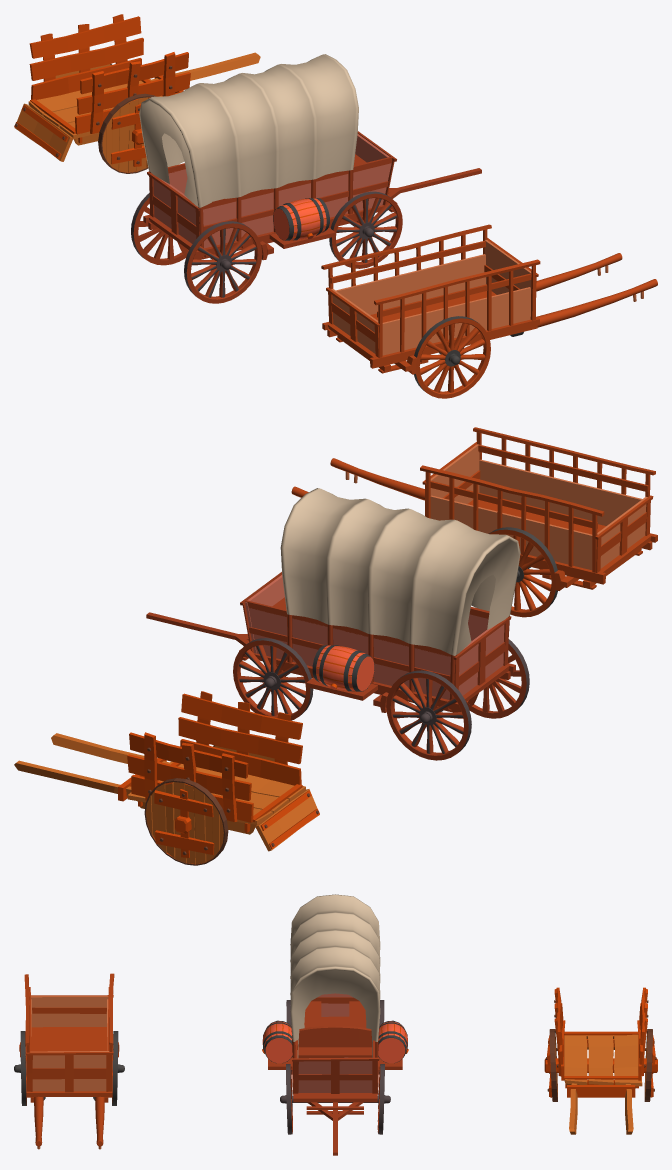
Rendered from low_poly_medieval_pack_wagons.glb.
3 renders of one model, top to bottom at view 1: azimuth 30°, elevation 25°; view 2: azimuth 150°, elevation 25°; view 3: azimuth 270°, elevation 25°, orthographic. The views are drawn at different scales.
Parts seen in each view (by area): view 1: Cube.005_Cube.002, Cube.060, Cube.007_Cube.009, Cube.007_Cube.002, Cube.009_Cube.001, Cube.005_Cube.007, Cylinder.001, Cube.008_Cube.002, Cube.059, Cube.008_Cube.014, Cube.061, Cylinder.067 (+17 smaller); view 2: Cube.005_Cube.002, Cube.060, Cube.007_Cube.009, Cube.007_Cube.002, Cylinder.005, Cube.009_Cube.001, Cube.005_Cube.007, Cylinder.001, Cube.008_Cube.002, Cube.059, Cube.061, Cube.008_Cube.014 (+16 smaller); view 3: Cube.005_Cube.002, Cube.059, Cube.011_Cube.013, Cube.011_Cube.002, Cube.008_Cube.014, Cube_Cube.001, Cube.052, Cylinder.017, Cube_Cube.003, Cube.060, Cylinder.005, Cylinder.067 (+8 smaller).
Boxes of the visible parts, left/top/right/bottom form: Cube.005_Cube.002: left=139, top=54, right=358, bottom=247; Cube.060: left=29, top=16, right=190, bottom=134; Cube.007_Cube.009: left=336, top=254, right=530, bottom=355; Cube.007_Cube.002: left=168, top=163, right=391, bottom=248; Cube.009_Cube.001: left=138, top=207, right=256, bottom=297; Cube.005_Cube.007: left=328, top=229, right=535, bottom=357; Cylinder.001: left=131, top=193, right=262, bottom=303; Cube.008_Cube.002: left=147, top=171, right=201, bottom=248; Cube.059: left=14, top=78, right=162, bottom=161; Cube.008_Cube.014: left=326, top=287, right=380, bottom=357; Cube.061: left=40, top=14, right=175, bottom=133; Cylinder.067: left=463, top=253, right=657, bottom=348; Cube.005_Cube.002: left=280, top=488, right=520, bottom=699; Cube.060: left=127, top=693, right=302, bottom=822; Cube.007_Cube.009: left=430, top=459, right=642, bottom=570; Cube.007_Cube.002: left=248, top=608, right=488, bottom=699; Cylinder.005: left=144, top=745, right=274, bottom=865; Cube.009_Cube.001: left=392, top=655, right=521, bottom=753; Cube.005_Cube.007: left=425, top=430, right=650, bottom=572; Cylinder.001: left=386, top=639, right=529, bottom=760; Cube.008_Cube.002: left=453, top=616, right=511, bottom=700; Cube.059: left=127, top=761, right=319, bottom=851; Cube.061: left=144, top=691, right=290, bottom=822; Cube.008_Cube.014: left=595, top=495, right=653, bottom=572; Cube.005_Cube.002: left=290, top=894, right=380, bottom=1078; Cube.059: left=564, top=1034, right=642, bottom=1086; Cube.011_Cube.013: left=25, top=1051, right=113, bottom=1092; Cube.011_Cube.002: left=291, top=1057, right=379, bottom=1093; Cube.008_Cube.014: left=31, top=995, right=113, bottom=1027; Cube_Cube.001: left=30, top=1027, right=108, bottom=1096; Cube.052: left=298, top=1026, right=372, bottom=1058; Cylinder.017: left=262, top=1020, right=408, bottom=1063; Cube_Cube.003: left=293, top=1016, right=377, bottom=1102; Cube.060: left=556, top=987, right=645, bottom=1080; Cylinder.005: left=549, top=1029, right=652, bottom=1101; Cylinder.067: left=34, top=1096, right=104, bottom=1149.
Size of what is drawn, in the model's own units: 3.65 by 2.04 by 7.26.
Materials: 1 (1 with a texture image).
